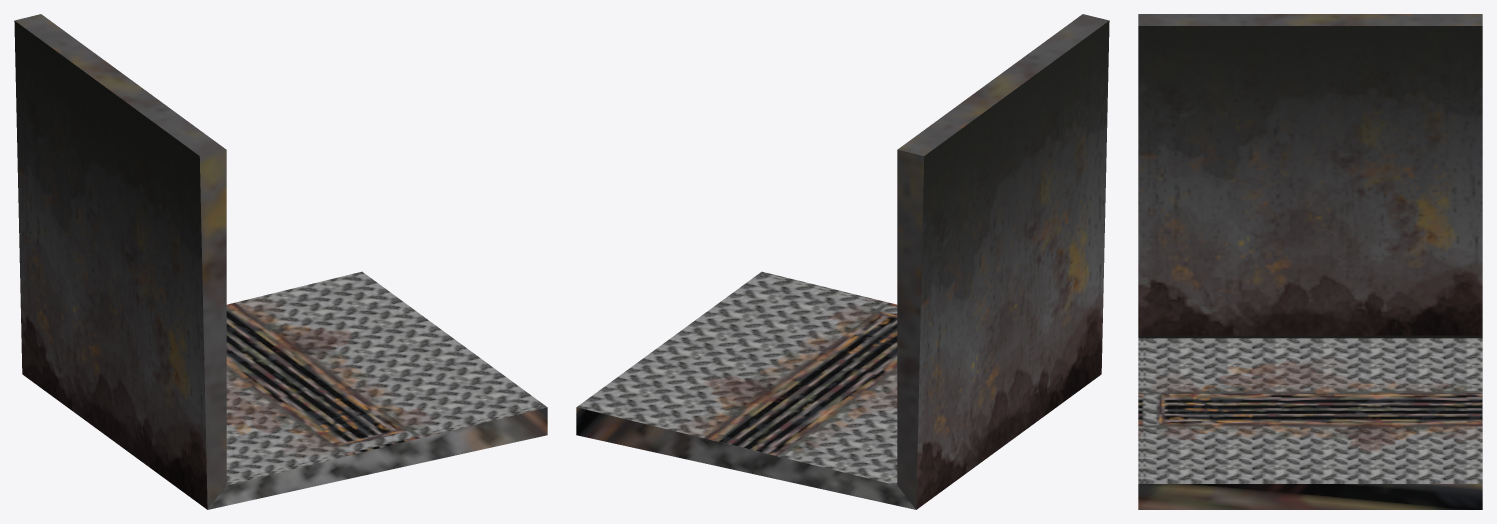
Rendered from FloorTile.002.fbx.
3 renders of one model, left to right at view 1: azimuth 30°, elevation 25°; view 2: azimuth 150°, elevation 25°; view 3: azimuth 270°, elevation 25°, orthographic. The views are drawn at different scales.
Parts seen in each view (by area): view 1: FloorTile.002; view 2: FloorTile.002; view 3: FloorTile.002.
Boxes of the visible parts, left/top/right/bottom form: FloorTile.002: left=14, top=14, right=547, bottom=509; FloorTile.002: left=576, top=14, right=1109, bottom=509; FloorTile.002: left=1138, top=14, right=1482, bottom=509.
Bounding box in the file's own units: 650 × 650 × 600.
